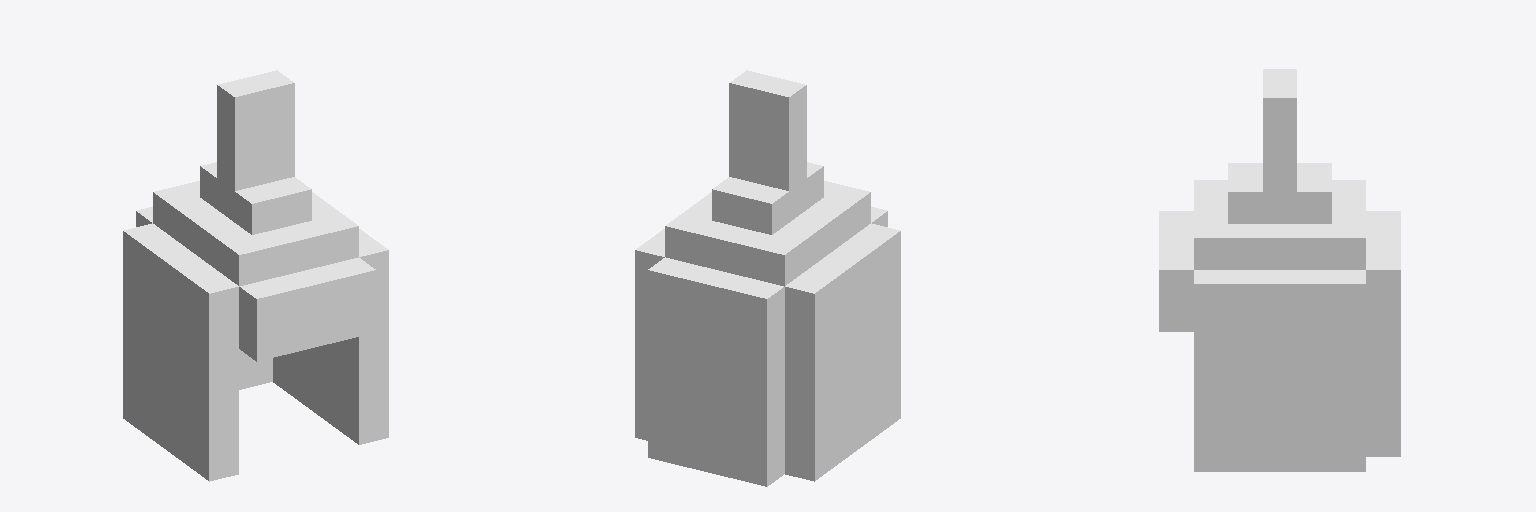
Rendered from char-163-helm_med_2b_sh.obj.
3 renders of one model, left to right at view 1: azimuth 30°, elevation 25°; view 2: azimuth 150°, elevation 25°; view 3: azimuth 270°, elevation 25°, orthographic.
Parts seen in each view (by area): view 1: helm_med_2b_sh; view 2: helm_med_2b_sh; view 3: helm_med_2b_sh.
Part boxes in pixels (x1,y1,x2,y2): helm_med_2b_sh: (123,70,388,481); helm_med_2b_sh: (635,70,900,486); helm_med_2b_sh: (1159,69,1400,471).
Bounding box in the file's own units: 0.6 × 1.1 × 0.7.